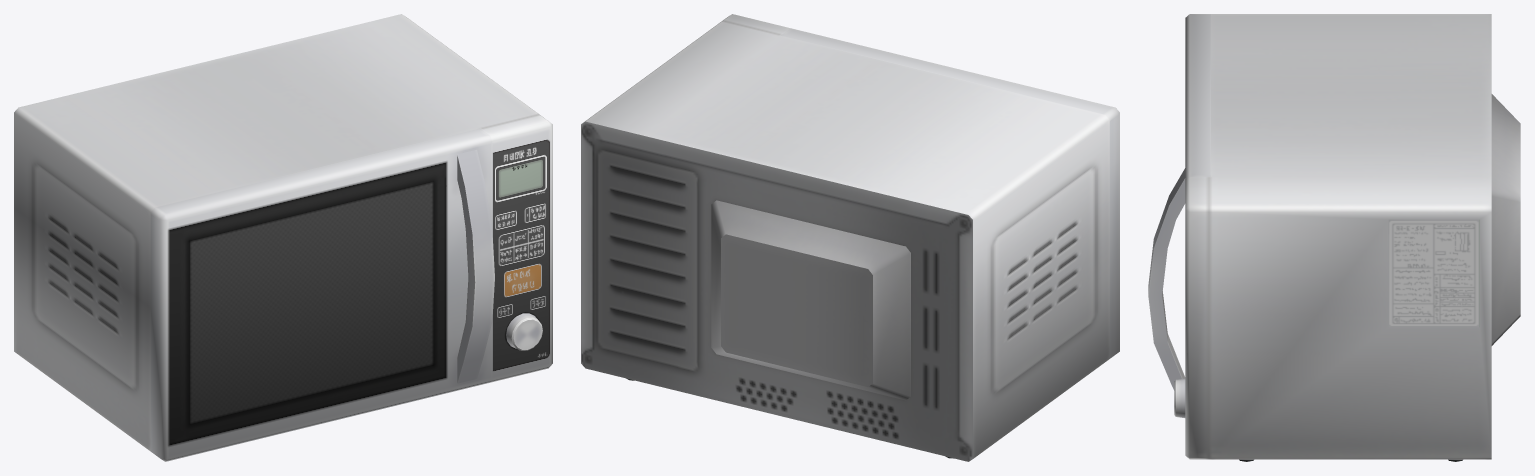
The model's file is KR_Microwave_01_01.fbx.
3 views of the same model, side by side, from view 1: azimuth 30°, elevation 25°; view 2: azimuth 150°, elevation 25°; view 3: azimuth 270°, elevation 25° (orthographic). The views are drawn at different scales.
Visible parts, largest first — view 1: KR_microwave_01_01, KR_door_01_01, KR_dial_01_01; view 2: KR_microwave_01_01, KR_door_01_01; view 3: KR_microwave_01_01, KR_door_01_01, KR_dial_01_01.
Boxes of the visible parts, x1=… form: KR_microwave_01_01: x1=14, y1=14, x2=552, y2=451; KR_door_01_01: x1=150, y1=128, x2=494, y2=461; KR_dial_01_01: x1=506, y1=313, x2=542, y2=350; KR_microwave_01_01: x1=581, y1=14, x2=1109, y2=461; KR_door_01_01: x1=781, y1=28, x2=1119, y2=358; KR_microwave_01_01: x1=1185, y1=14, x2=1520, y2=461; KR_door_01_01: x1=1148, y1=14, x2=1210, y2=390; KR_dial_01_01: x1=1174, y1=378, x2=1185, y2=417.
Bounding box in the file's own units: 46 × 29.22 × 36.85.
